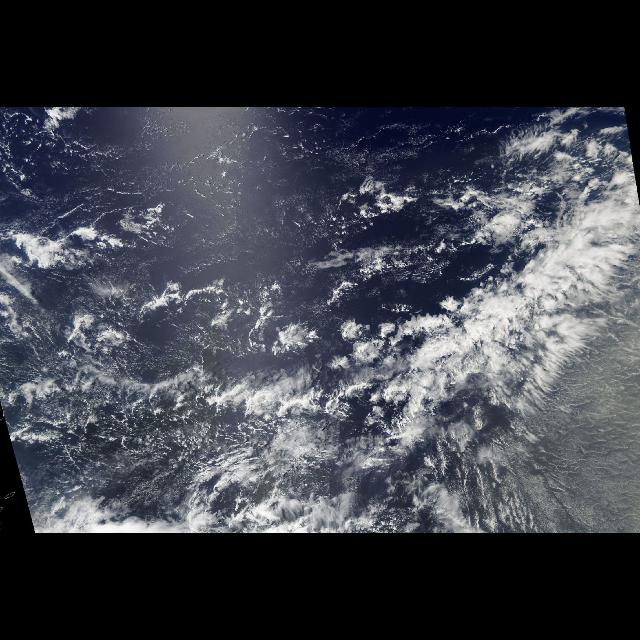Fish: (371, 141, 623, 485)
Sugar: (544, 361, 640, 534)
